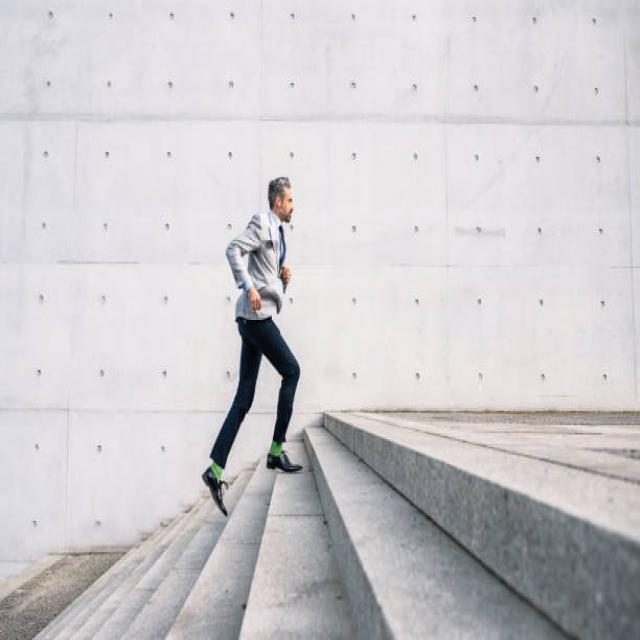stand: (211, 156, 302, 484)
